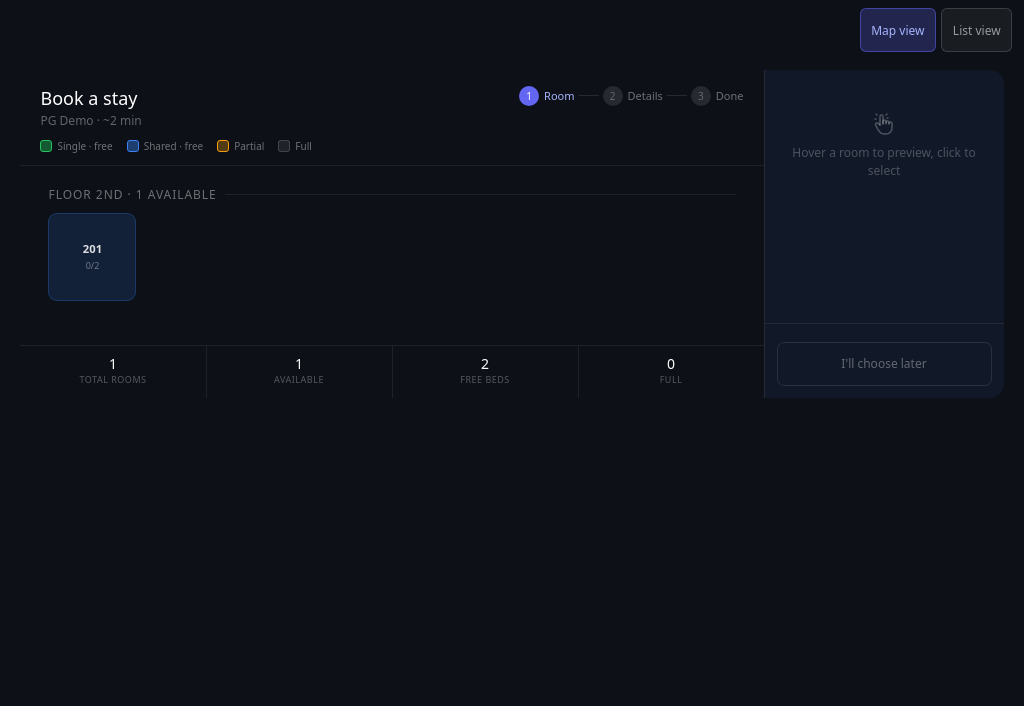
it: PublicBookingPage › advances on double-click in list view
Click the button "List view".
click(977, 30)  # box [942,8,1012,52]
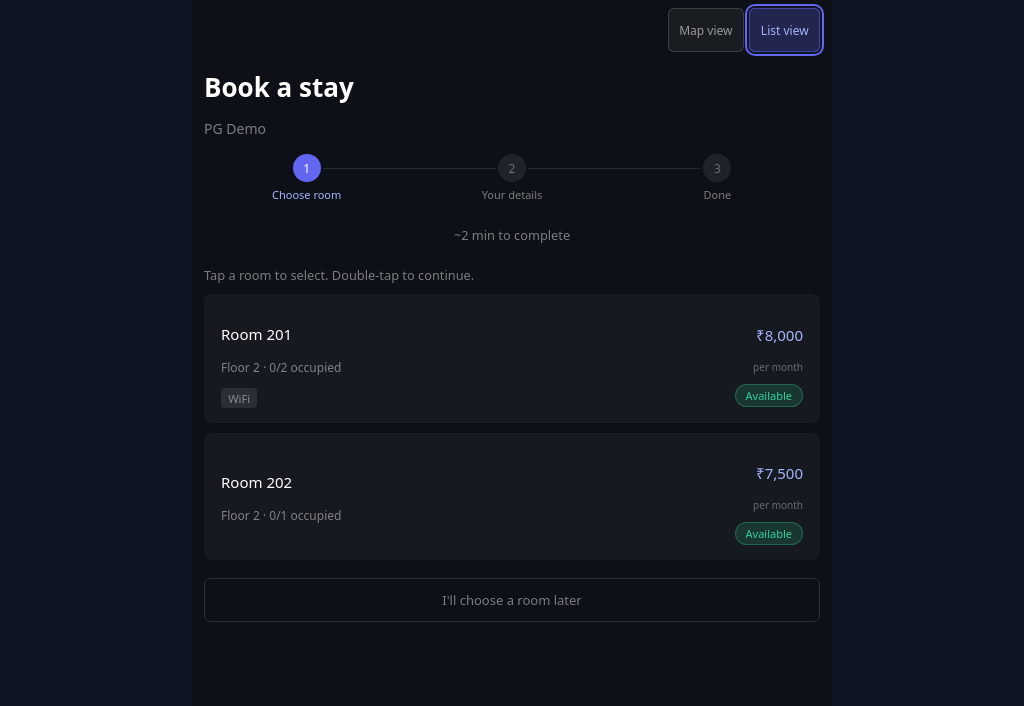
Click the button "Room 202 Floor 2 · 0/1 occupied ₹7,500 per month Available".
click(244, 482)  # box [204,433,820,560]
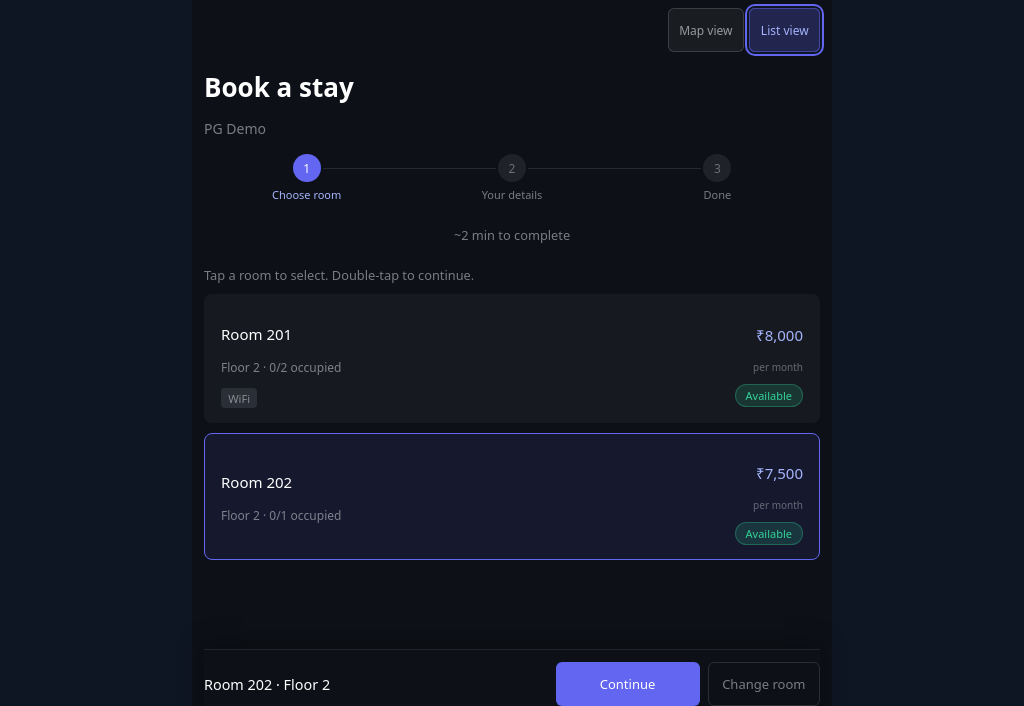
Click the button "Room 202 Floor 2 · 0/1 occupied ₹7,500 per month Available".
click(244, 482)  # box [204,433,820,560]
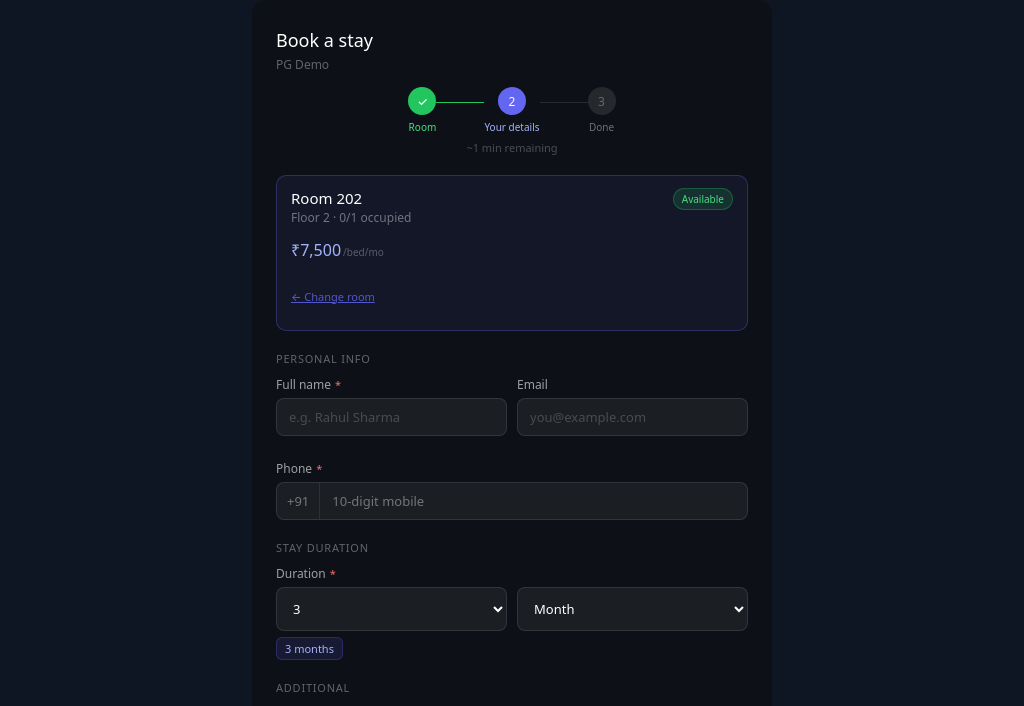
Result: the field labelled "Full name *" is shown at [276,398,507,436]
